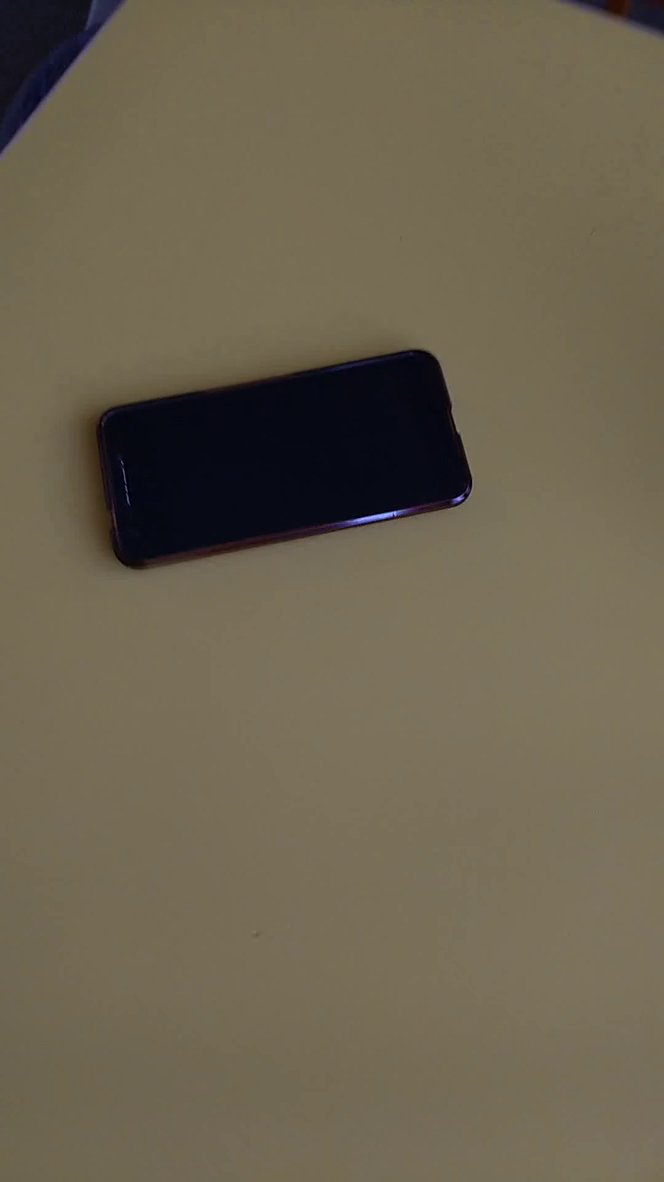phone: (77, 337, 492, 586)
